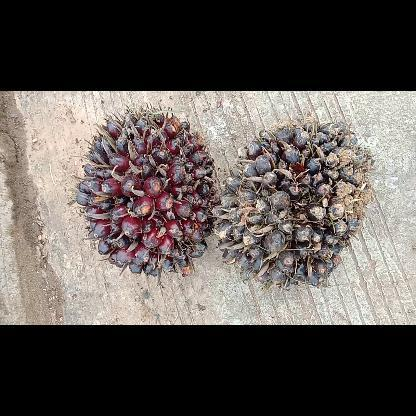TBS mentah: (212, 115, 376, 292), (74, 106, 220, 284)
